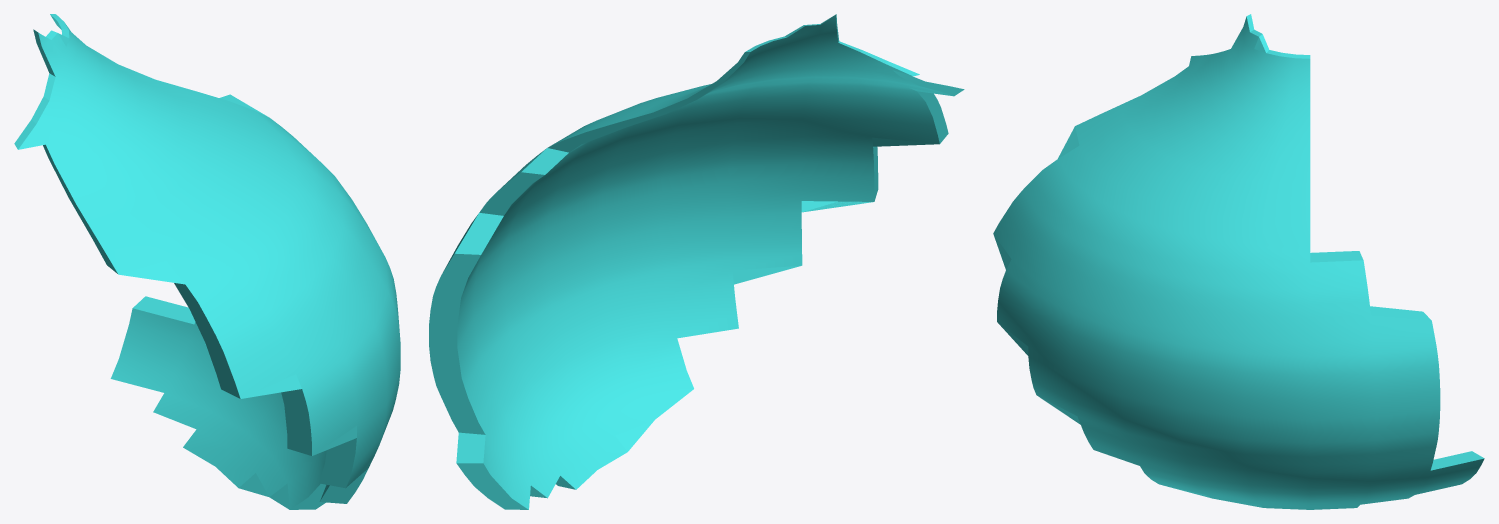
Rendered from VaseBroken2.fbx.
3 renders of one model, left to right at view 1: azimuth 30°, elevation 25°; view 2: azimuth 150°, elevation 25°; view 3: azimuth 270°, elevation 25°, orthographic. The views are drawn at different scales.
Parts seen in each view (by area): view 1: splinterMiddle3; view 2: splinterMiddle3; view 3: splinterMiddle3.
Part boxes in pixels (x1,y1,x2,y2): splinterMiddle3: [14, 14, 400, 509]; splinterMiddle3: [429, 14, 964, 509]; splinterMiddle3: [993, 14, 1484, 509].
Size of the model in its own units: 20.37 by 25.16 by 27.6.
